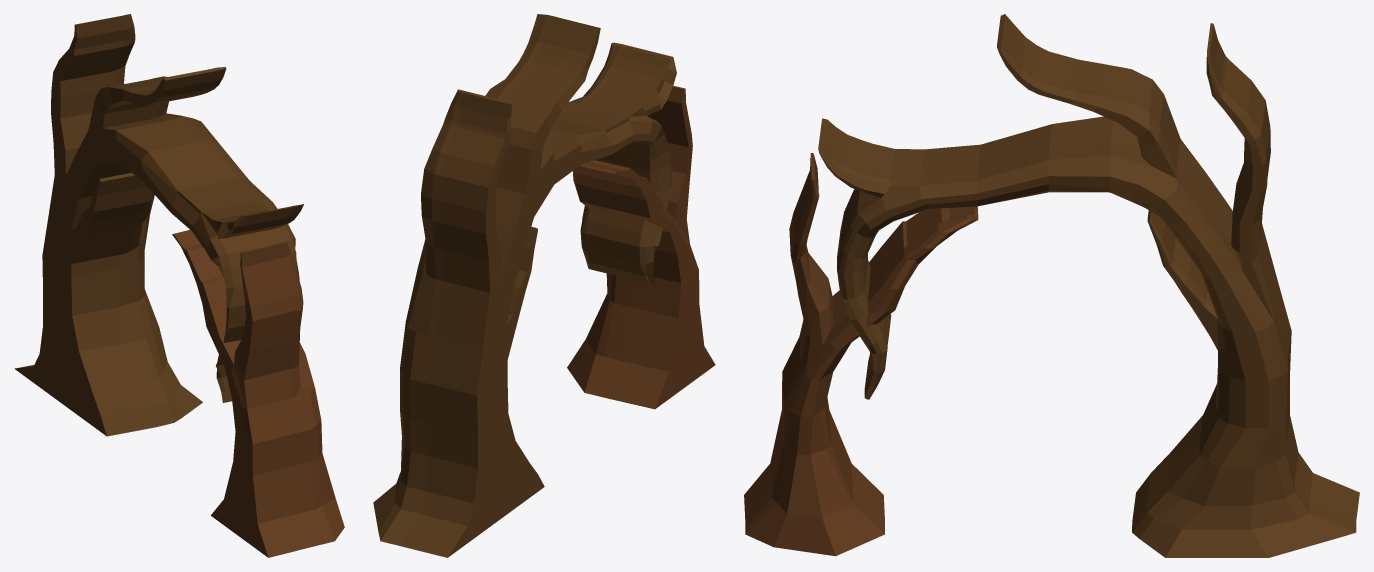
File: puertaNaturaleza.fbx
3 renders of one model, left to right at view 1: azimuth 30°, elevation 25°; view 2: azimuth 150°, elevation 25°; view 3: azimuth 270°, elevation 25°, orthographic. The views are drawn at different scales.
Visible parts, largest first — view 1: Cubo.028, ARBOL.015; view 2: Cubo.028, ARBOL.015; view 3: Cubo.028, ARBOL.015.
Part boxes in pixels (<box>): Cubo.028: <box>14,14,303,436</box>; ARBOL.015: <box>172,229,344,557</box>; Cubo.028: <box>373,14,676,557</box>; ARBOL.015: <box>567,85,715,409</box>; Cubo.028: <box>818,14,1359,557</box>; ARBOL.015: <box>744,153,978,556</box>.
Size of the model in its own units: 142 by 496 by 573.
